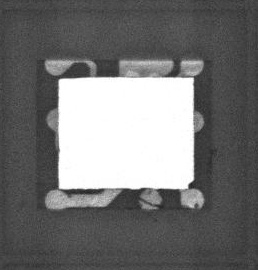DIE_INK: (135, 194, 193, 211)
